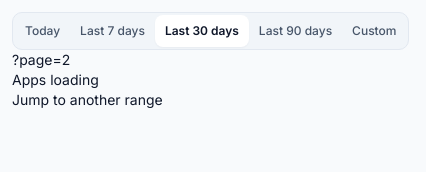
Test: date range control › keeps address parameters that are not filters
Click the button "Last 7 days".
click(112, 31)  # box [70,15,155,47]
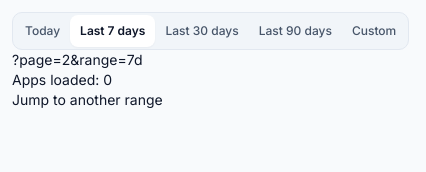
Result: the text with test id "address" reads "?page=2&range=7d" at [12,51,142,68]
